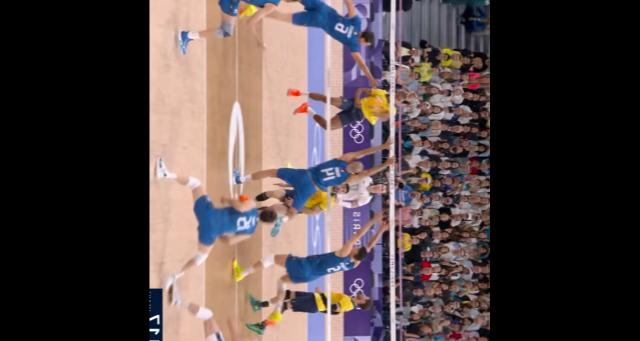Levantador: (297, 0, 376, 51), (262, 290, 374, 318)
Libero: (198, 311, 281, 341), (344, 178, 389, 207)
